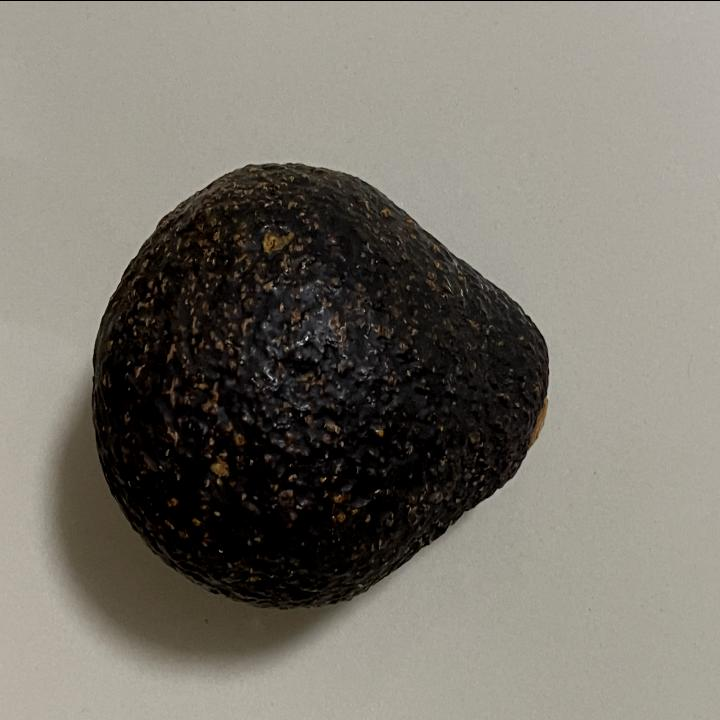Level3: (83, 150, 557, 616)
